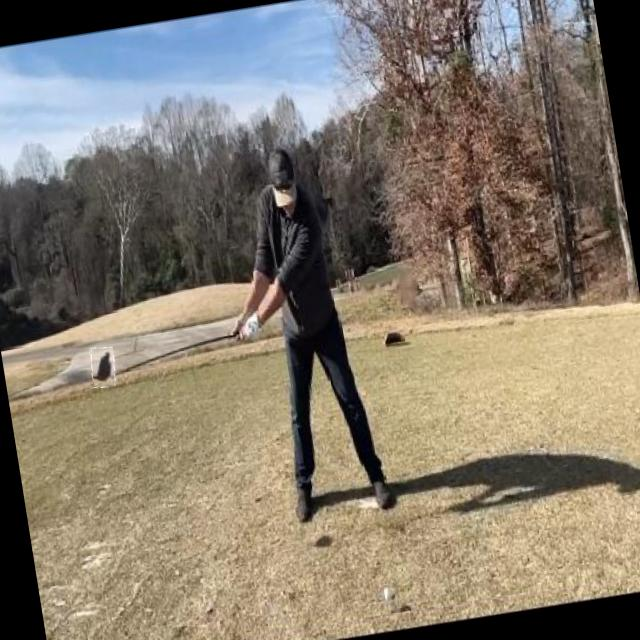club head: (88, 346, 118, 388)
